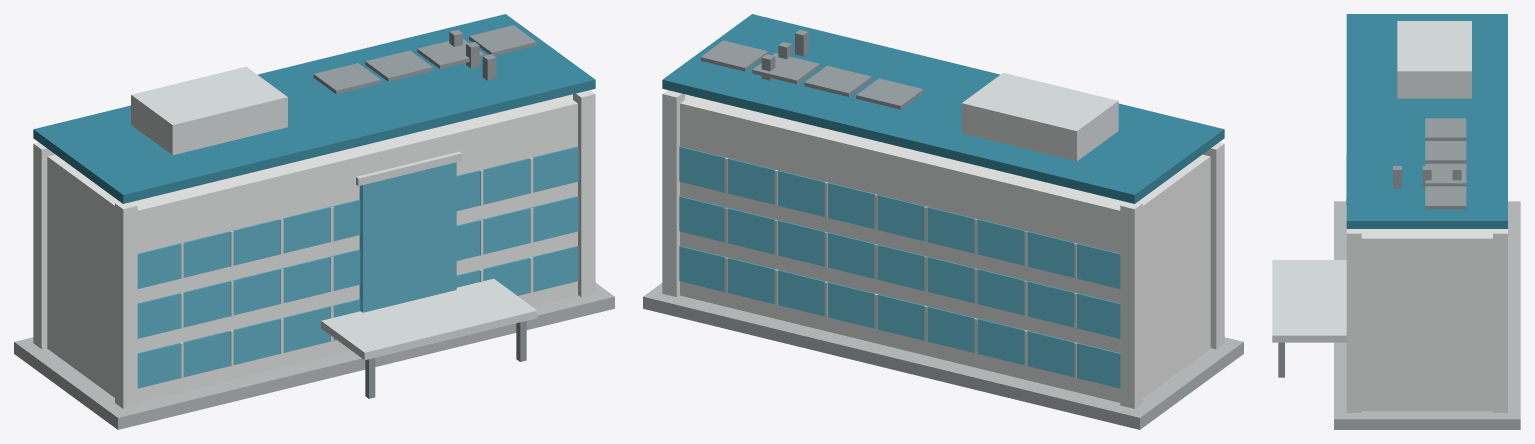
File: wisdomcenter.glb
The picture shows the model from 3 angles, left to right: view 1: azimuth 30°, elevation 25°; view 2: azimuth 150°, elevation 25°; view 3: azimuth 270°, elevation 25°; orthographic projection. The views are drawn at different scales.
Visible parts, largest first — view 1: WisdomCenter; view 2: WisdomCenter; view 3: WisdomCenter.
Part boxes in pixels (x1,y1,x2,y2): WisdomCenter: (14,14,614,429); WisdomCenter: (643,14,1243,429); WisdomCenter: (1272,14,1520,429).
Bounding box in the file's own units: 6.9 × 3.41 × 3.32.
